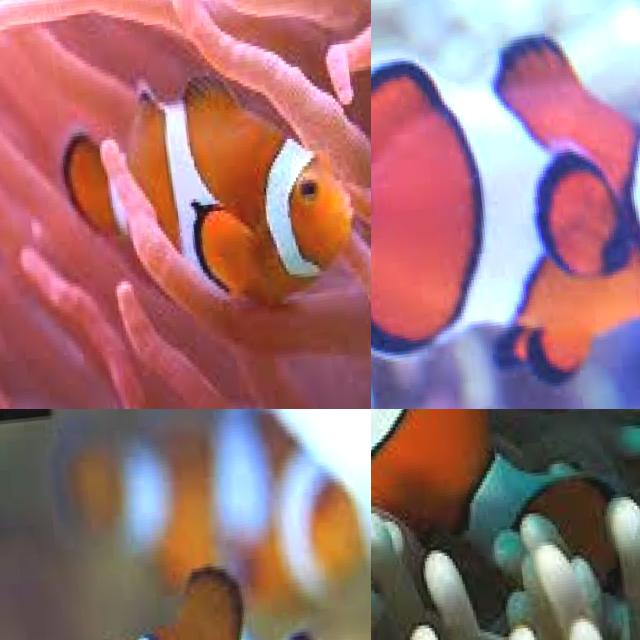Amphiprion-percula: (53, 12, 371, 403), (371, 0, 640, 409), (371, 409, 640, 640), (18, 515, 371, 640)
